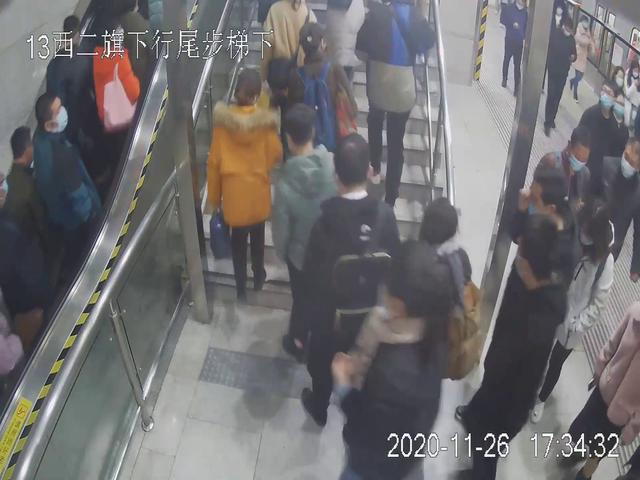person: (305, 131, 407, 435), (461, 218, 568, 480), (271, 105, 354, 362), (207, 61, 287, 297), (361, 1, 435, 204), (25, 92, 105, 275), (88, 21, 144, 174), (540, 14, 577, 137), (496, 1, 534, 89), (571, 16, 593, 101)
